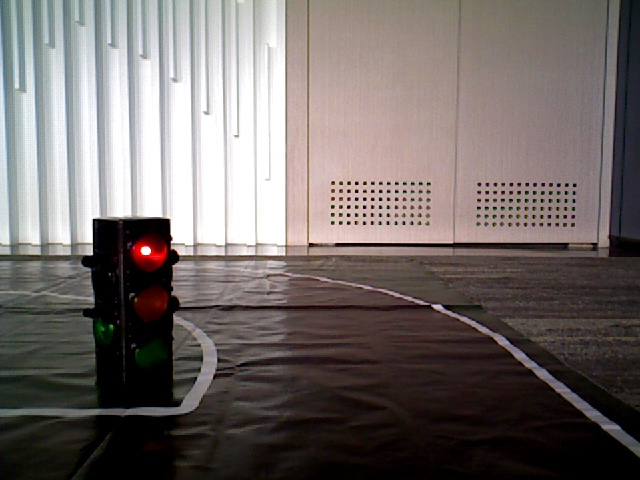red: (114, 224, 172, 401)
